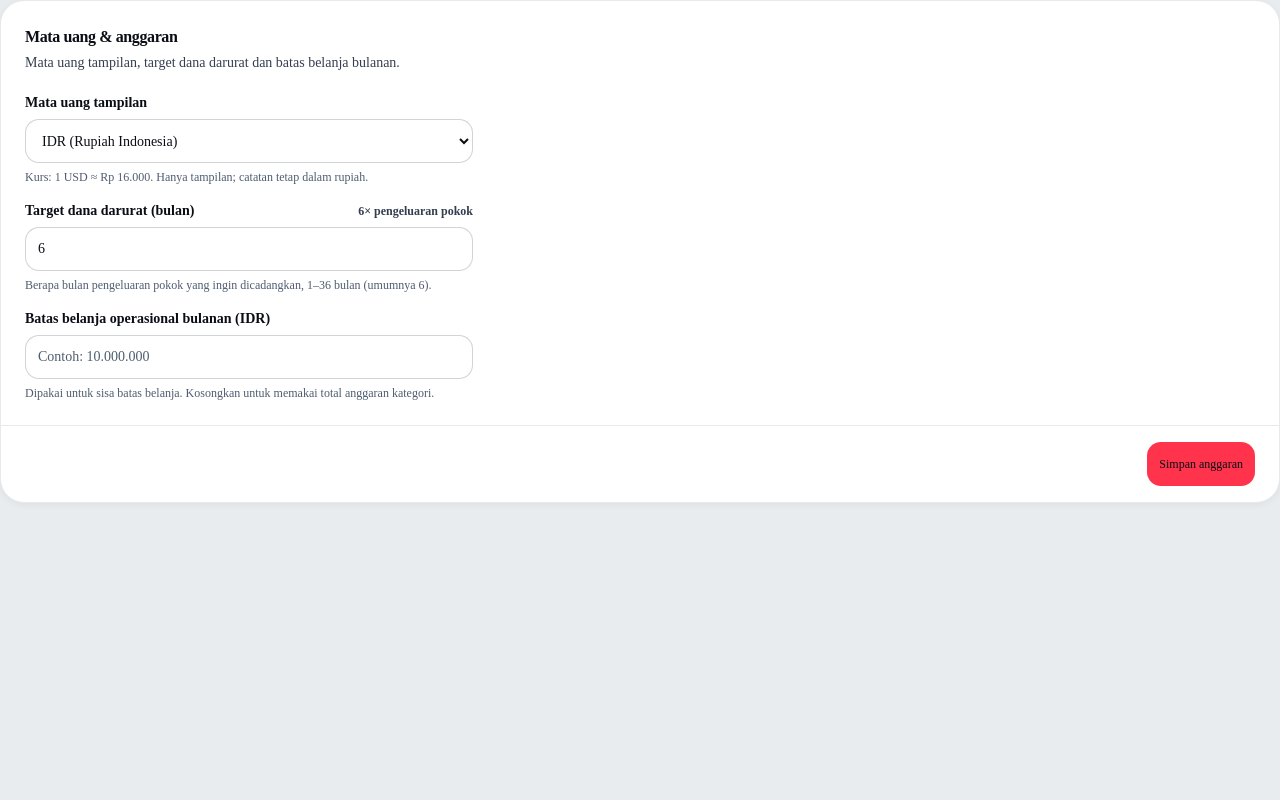
Scenario: Mata uang & anggaran settings › refuses an emergency target outside 1–36 months without saving
Replace the text in the number field labelled "Target dana darurat (bulan)" with "40" at (249, 249), box x1=25 y1=227 x2=473 y2=271
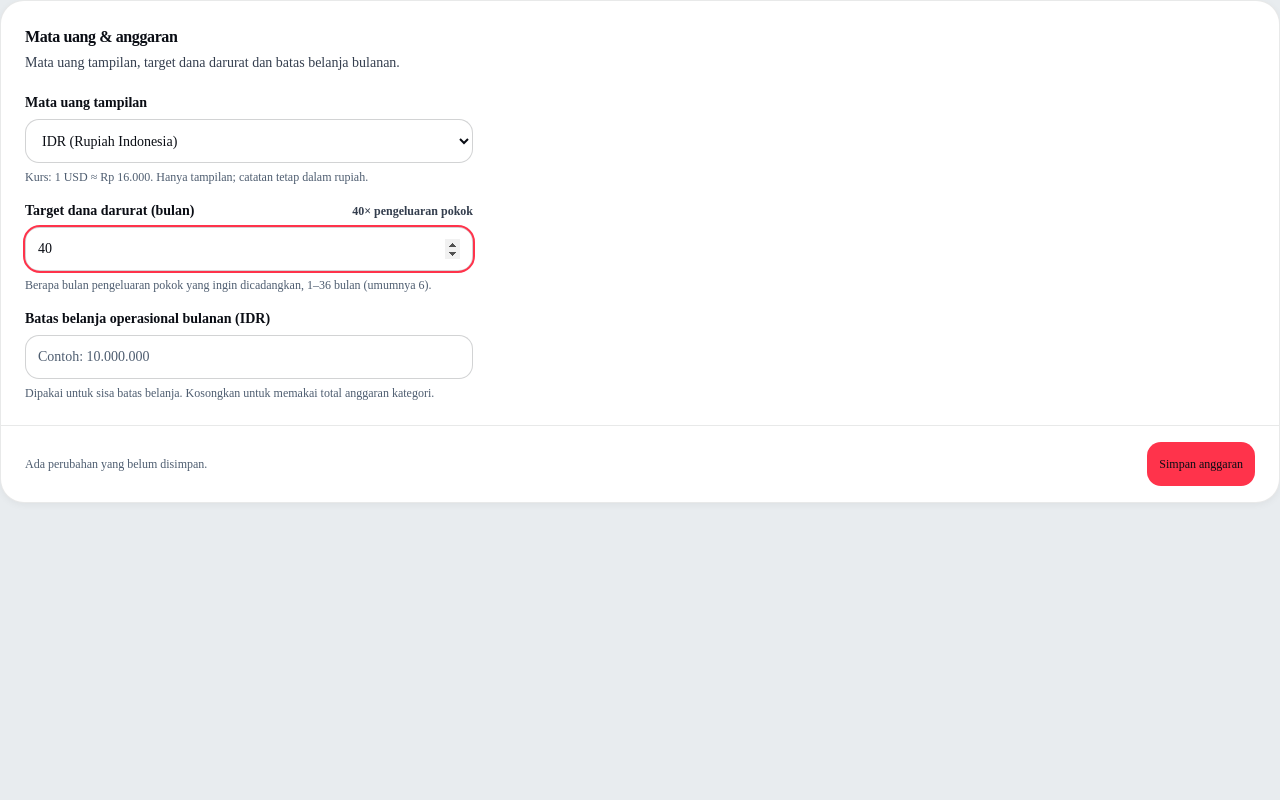
Click the button "Simpan anggaran" at (1201, 464), box x1=1147 y1=442 x2=1255 y2=486
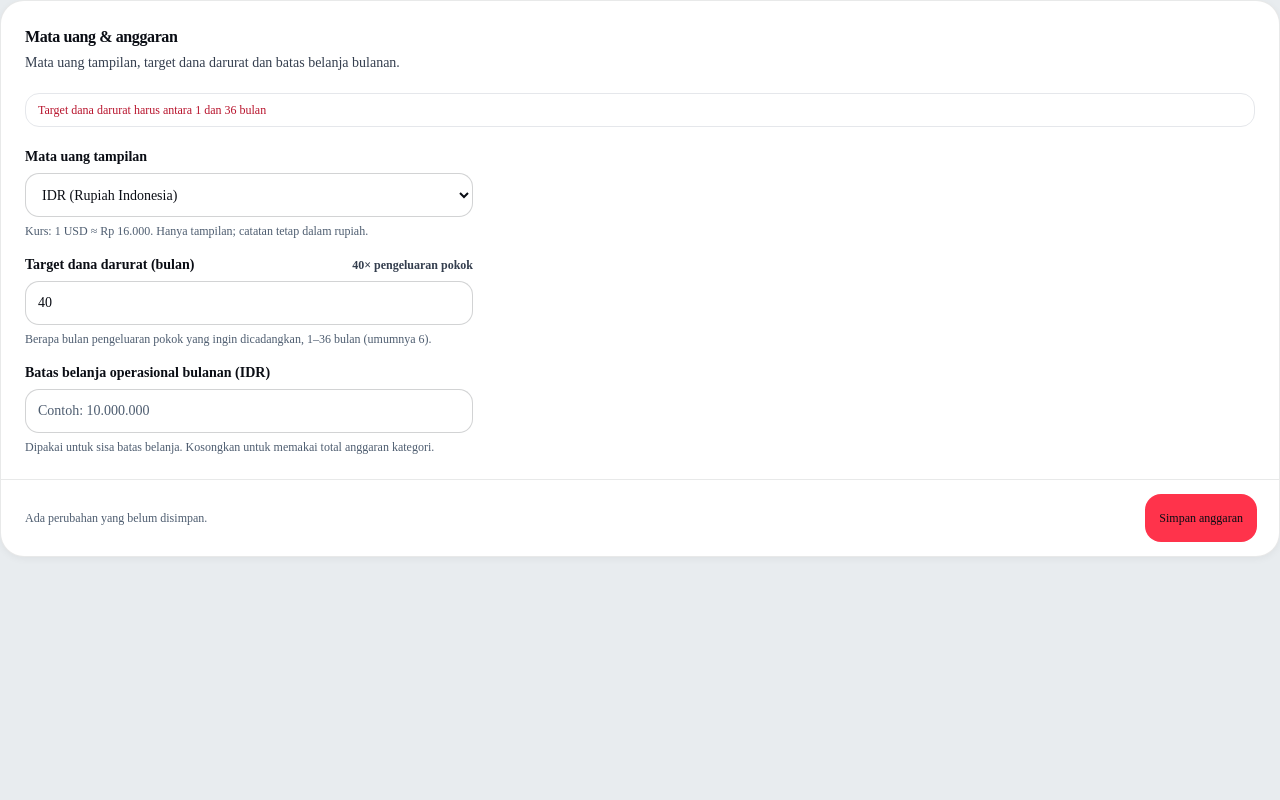
Expected: the message "Target dana darurat harus antara 1 dan 36 bulan" is shown, x1=25 y1=93 x2=1255 y2=127
